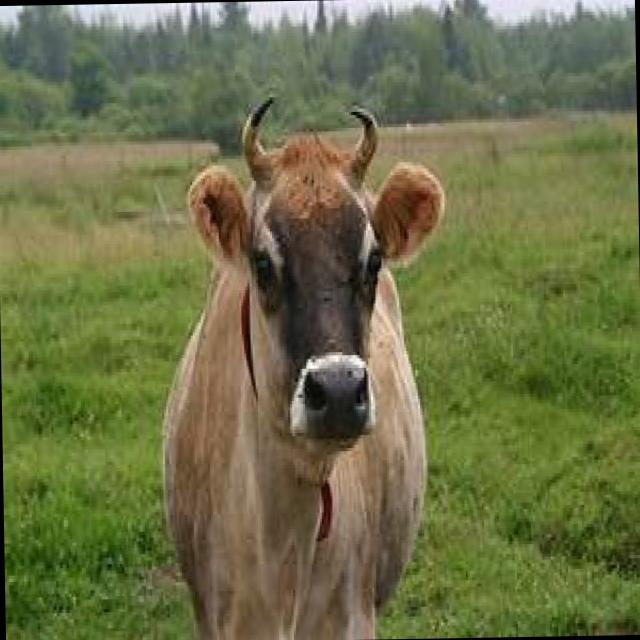animal: (154, 91, 452, 640)
